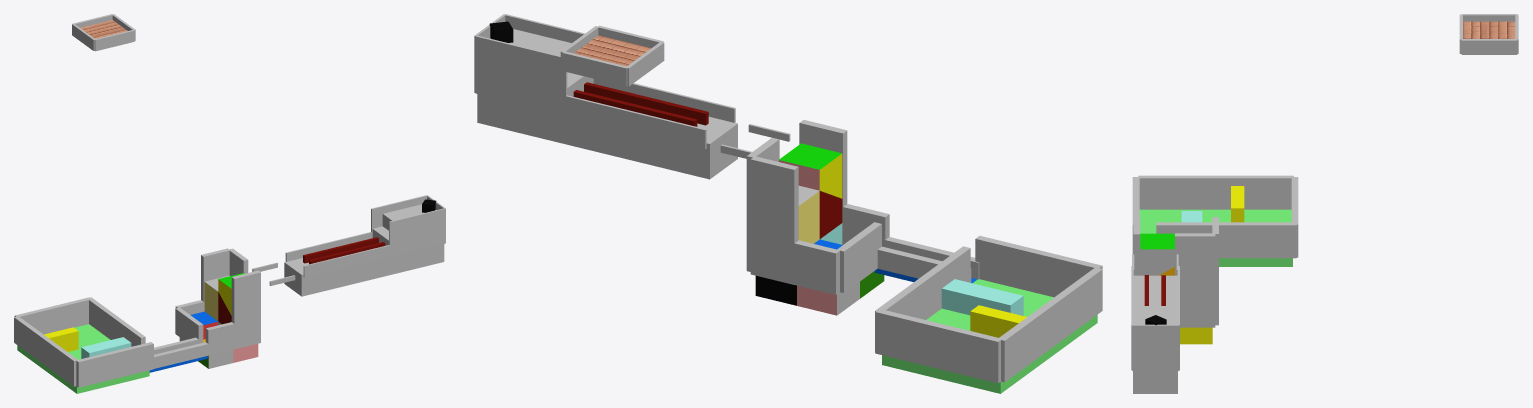
File: gameStage_02_01.fbx
The picture shows the model from 3 angles, left to right: view 1: azimuth 30°, elevation 25°; view 2: azimuth 150°, elevation 25°; view 3: azimuth 270°, elevation 25°; orthographic projection. The views are drawn at different scales.
Parts seen in each view (by area): view 1: gameStage_02_01, Box004, Box009, Box018, Box002, Box003, Box001, Box015, Box010, Box008, Box005, Box007 (+4 smaller); view 2: gameStage_02_01, Box003, Box010, Box017, Box002, Box004, Box016, Box001, Box012, Box007, Box009, Box015 (+8 smaller); view 3: gameStage_02_01, Box002, Box011, Box001, Box019, Box021, Box010, Box003, Box009, Box020, Box004.
Boxes of the visible parts, <box> form: gameStage_02_01: <box>17,20,444,393</box>; Box004: <box>76,342,153,387</box>; Box009: <box>231,270,260,349</box>; Box018: <box>389,208,445,256</box>; Box002: <box>14,316,77,386</box>; Box003: <box>14,297,91,334</box>; Box001: <box>88,297,145,346</box>; Box015: <box>303,245,390,277</box>; Box010: <box>201,248,229,301</box>; Box008: <box>205,322,234,355</box>; Box005: <box>154,342,208,368</box>; Box007: <box>175,307,203,342</box>; gameStage_02_01: <box>477,21,1097,393</box>; Box003: <box>875,309,1002,383</box>; Box010: <box>750,156,798,284</box>; Box017: <box>475,35,567,114</box>; Box002: <box>999,268,1102,382</box>; Box004: <box>975,235,1102,297</box>; Box016: <box>564,95,706,149</box>; Box001: <box>875,246,970,352</box>; Box012: <box>794,240,839,294</box>; Box007: <box>837,222,881,292</box>; Box009: <box>799,120,847,244</box>; Box015: <box>595,79,735,122</box>; gameStage_02_01: <box>1133,21,1515,393</box>; Box002: <box>1138,175,1293,209</box>; Box011: <box>1175,233,1215,327</box>; Box001: <box>1156,222,1296,258</box>; Box019: <box>1132,324,1179,370</box>; Box021: <box>1461,39,1517,54</box>; Box010: <box>1212,217,1218,325</box>; Box003: <box>1291,177,1298,257</box>; Box009: <box>1133,217,1140,275</box>; Box020: <box>1461,14,1517,21</box>; Box004: <box>1132,177,1139,253</box>.
Size of the model in its own units: 7217 by 5054 by 4391.
